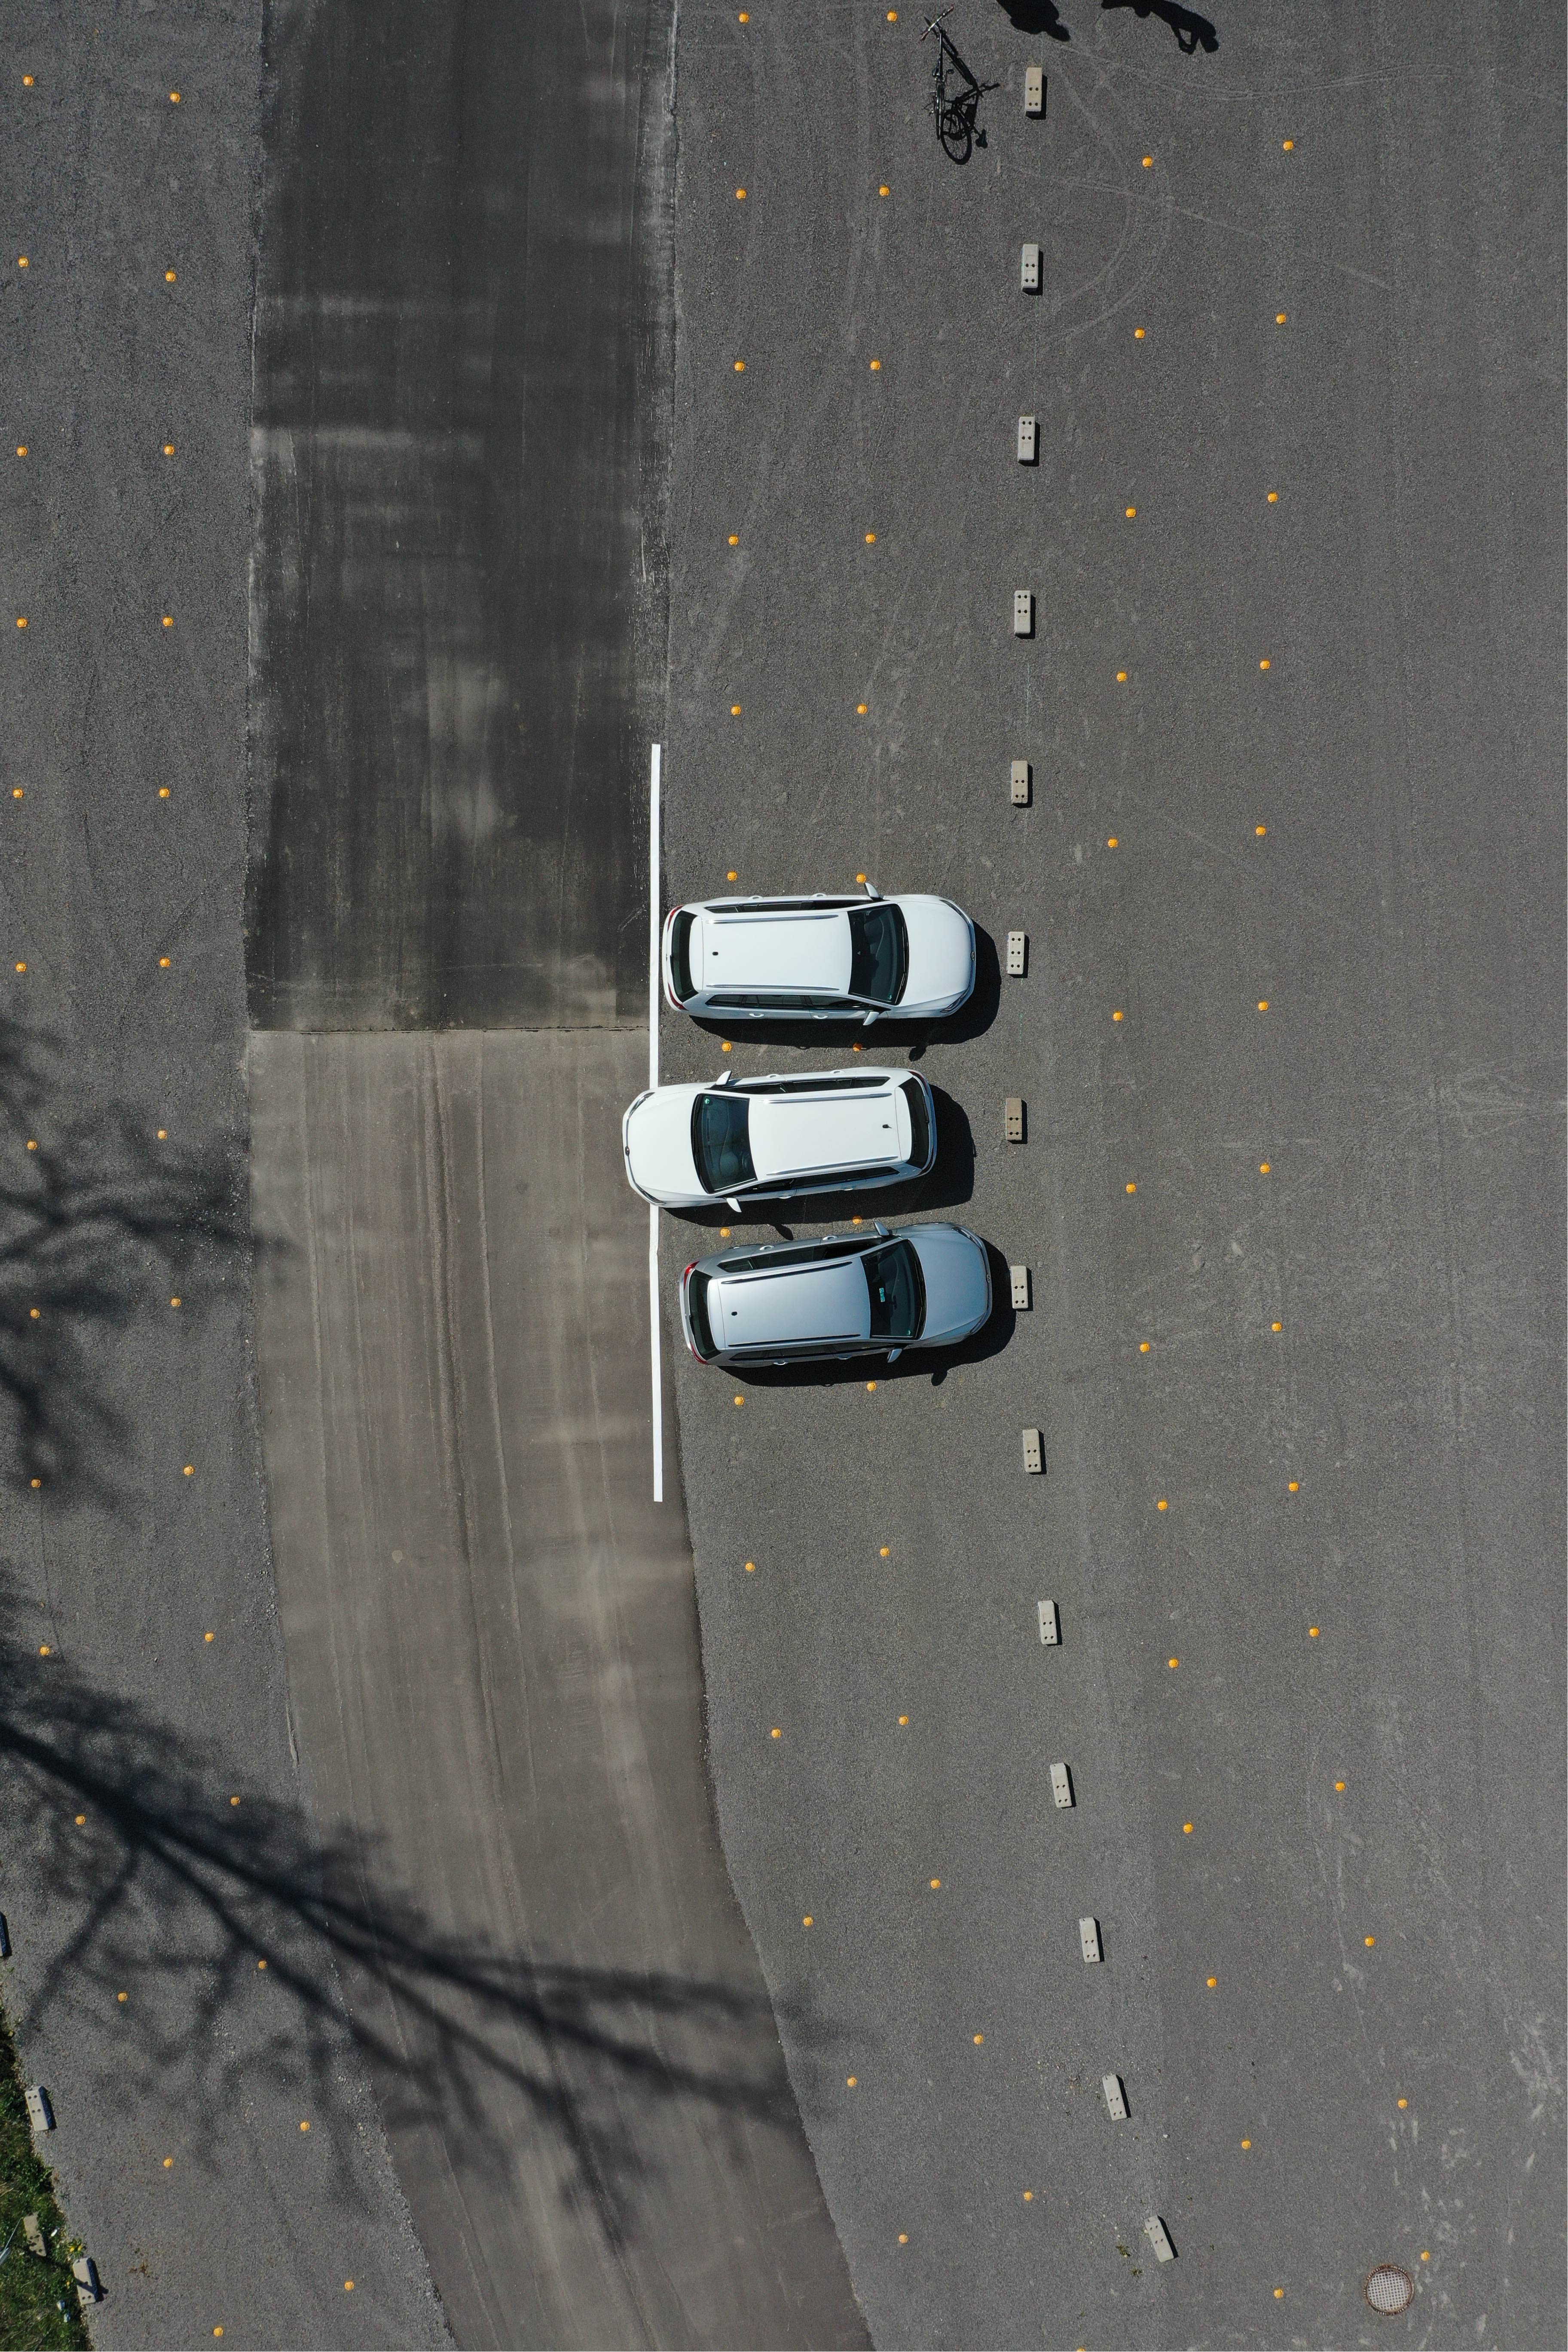Car: (674, 884, 1010, 1045), (621, 1059, 942, 1216), (677, 1218, 996, 1375)
LaneMark: (641, 744, 665, 1069), (644, 1209, 670, 1493)
